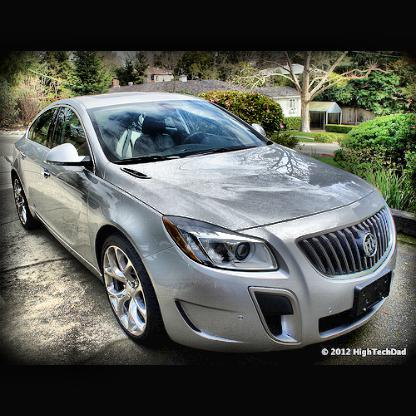Buick Regal GS 2012: (11, 91, 401, 355)
